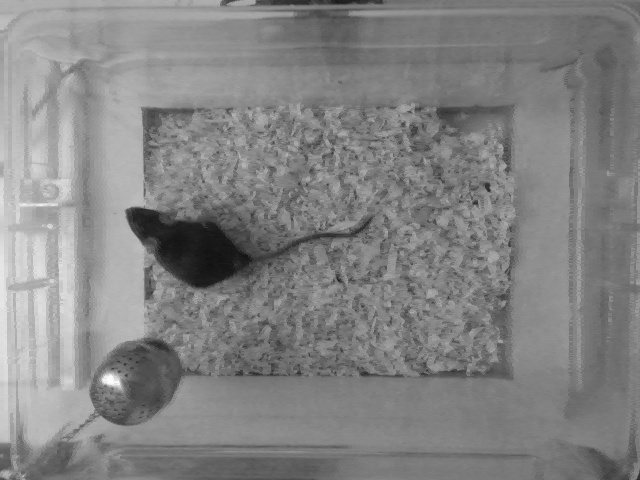mice: (122, 202, 371, 289)
